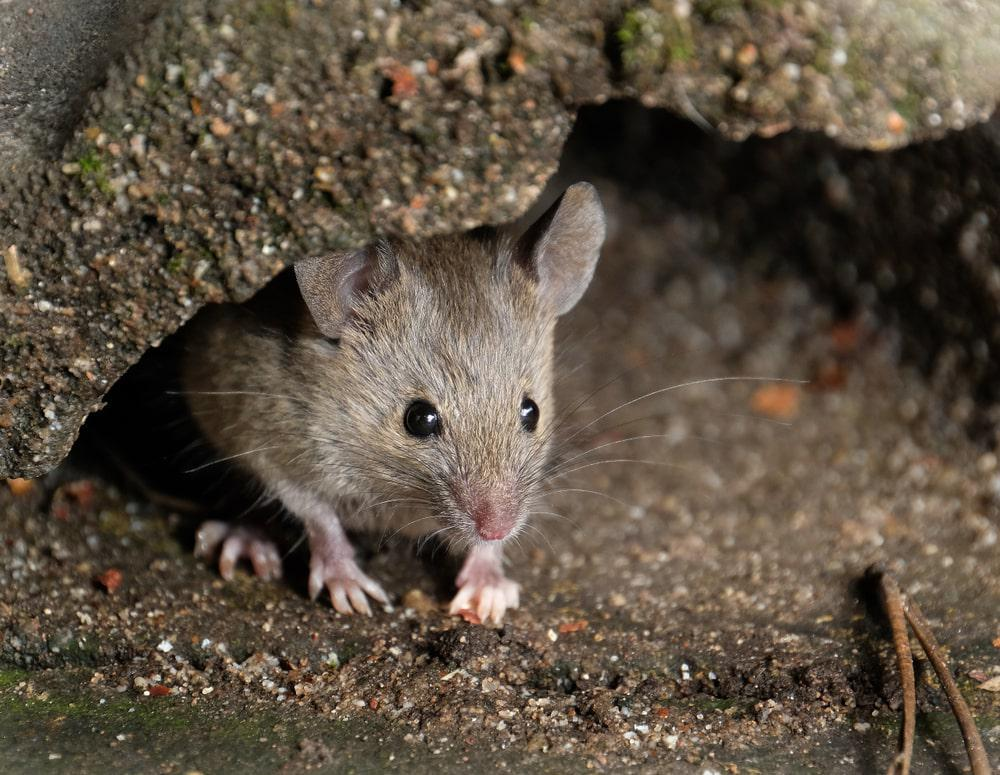rat: (183, 181, 606, 629)
